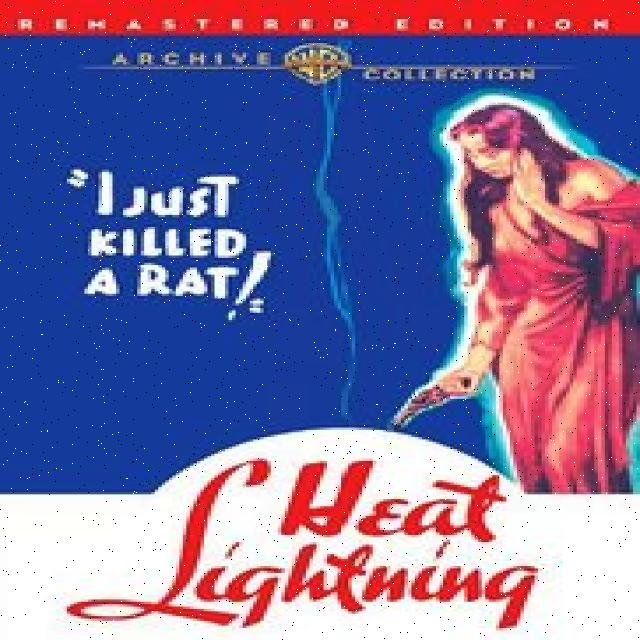movie-judul: (64, 457, 564, 640)
picture: (383, 91, 640, 492)
